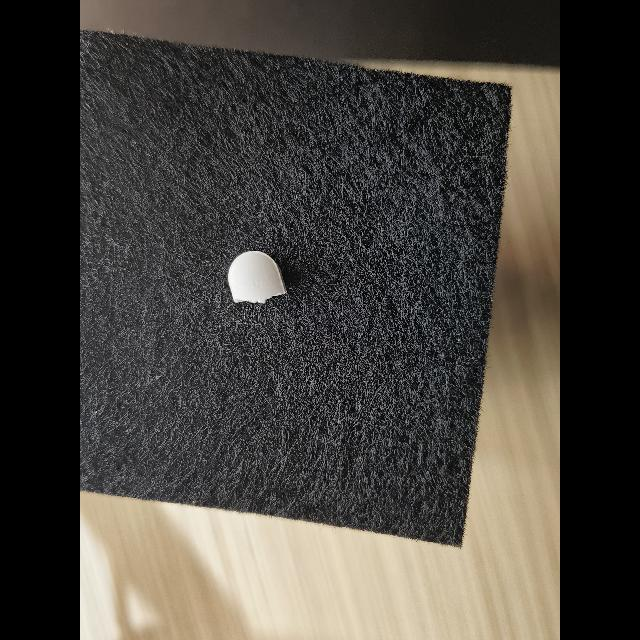Chipped Pill: (228, 251, 287, 304)
